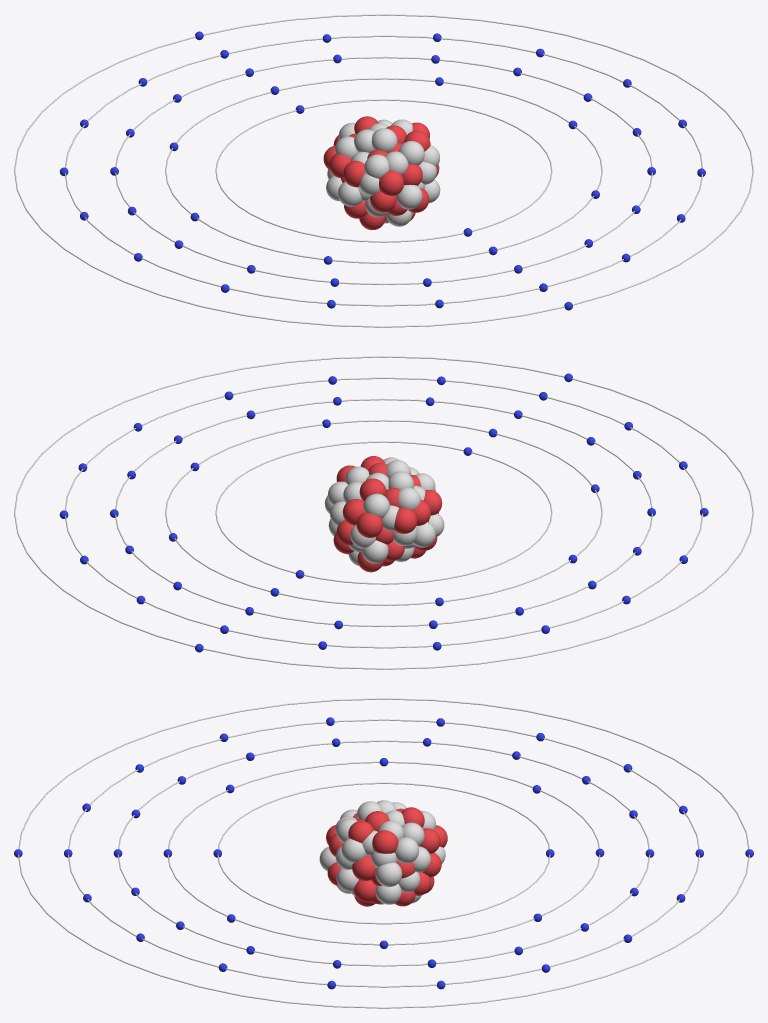
Rendered from Cadmium.glb.
3 views of the same model, one above another, from view 1: azimuth 30°, elevation 25°; view 2: azimuth 150°, elevation 25°; view 3: azimuth 270°, elevation 25° (orthographic).
Parts seen in each view (by area): view 1: O-Schale, N-Schale, M-Schale, L-Schale, K-Schale; view 2: O-Schale, N-Schale, M-Schale, L-Schale, K-Schale, Proton 47; view 3: O-Schale, N-Schale, M-Schale, L-Schale, K-Schale, Neutron 62, Proton 44.
Part boxes in pixels (x1,y1,x2,y2): O-Schale: (14,14,753,327); N-Schale: (65,35,702,306); M-Schale: (115,56,652,285); L-Schale: (165,78,602,263); K-Schale: (215,99,552,242); O-Schale: (14,356,753,669); N-Schale: (65,377,703,648); M-Schale: (115,398,652,627); L-Schale: (165,420,602,605); K-Schale: (215,441,552,584); Proton 47: (356,512,383,537); O-Schale: (18,698,749,1008); N-Schale: (68,719,699,987); M-Schale: (117,740,650,966); L-Schale: (167,761,600,945); K-Schale: (217,782,550,924); Neutron 62: (375,862,402,887); Proton 44: (372,830,398,853).
Size of the model in its own units: 22.04 by 3.24 by 22.26.
